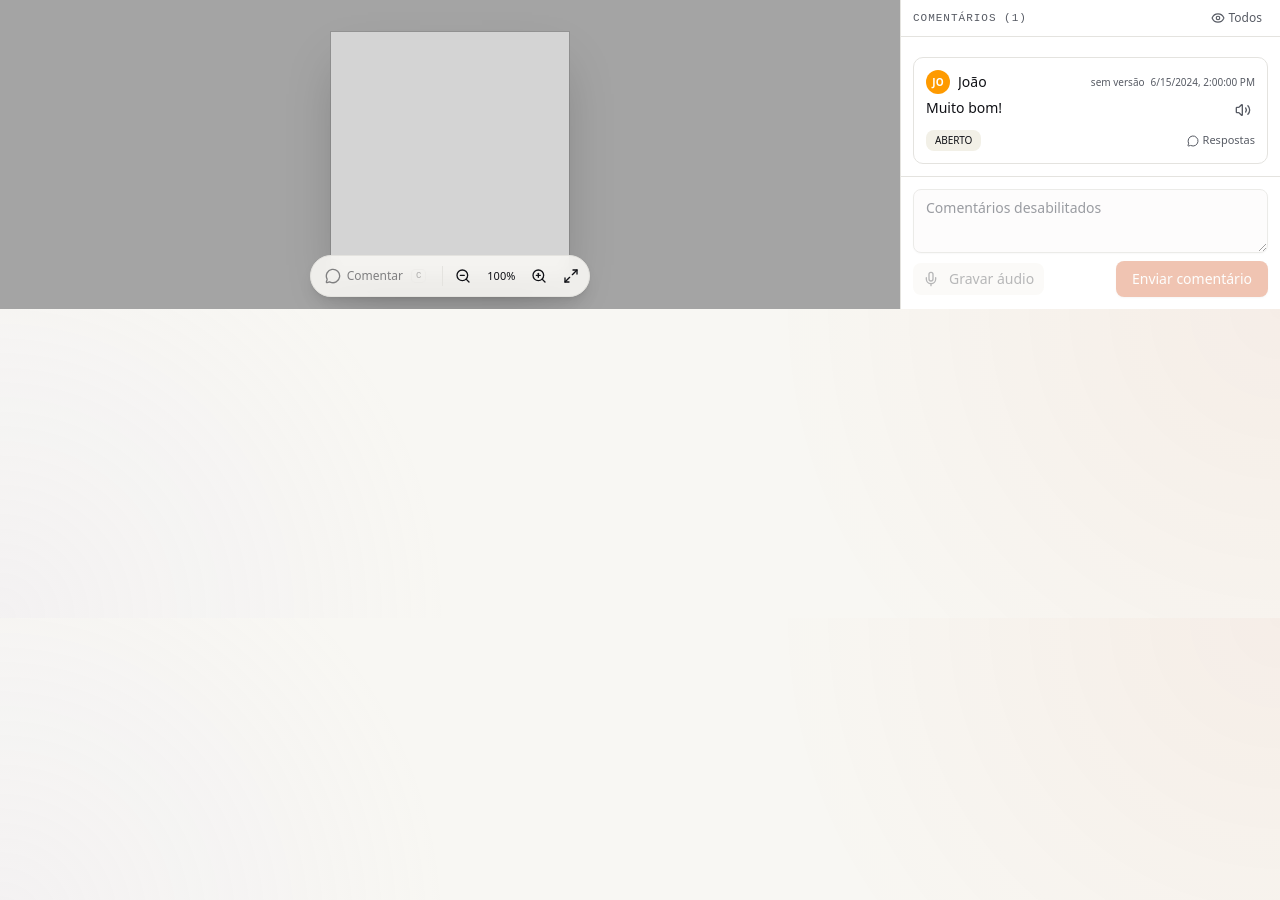
Test: FeedbackViewer › hides reply input in readOnly mode
Click the button "Respostas": (1221, 141) left=1187, top=132, right=1255, bottom=149
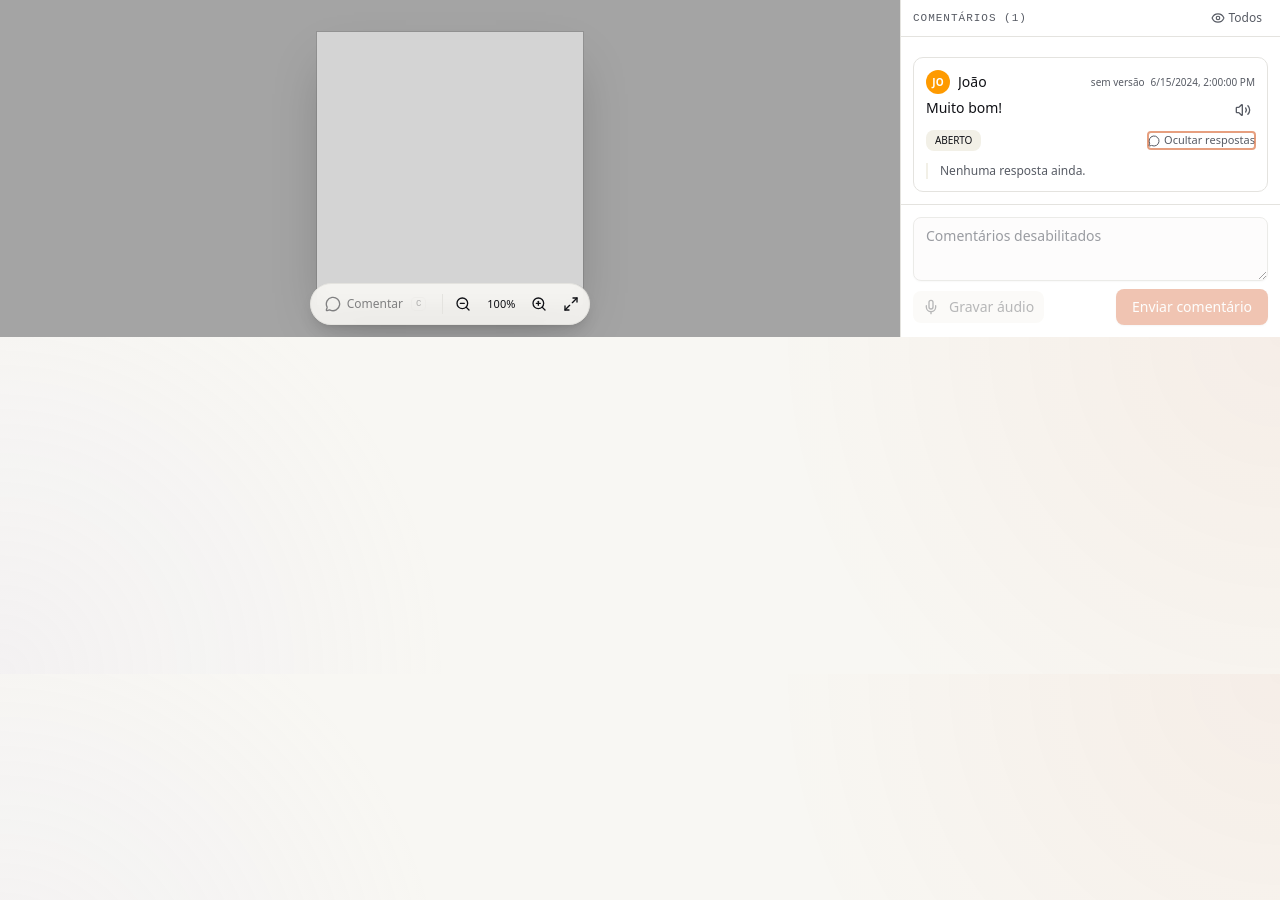
expect the text "Nenhuma resposta ainda." is shown: met, box left=940, top=162, right=1086, bottom=179
